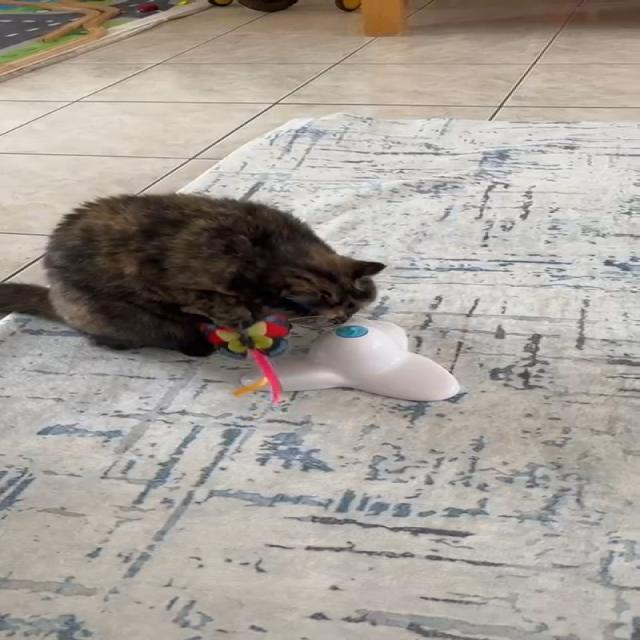authorized: (0, 191, 387, 357)
